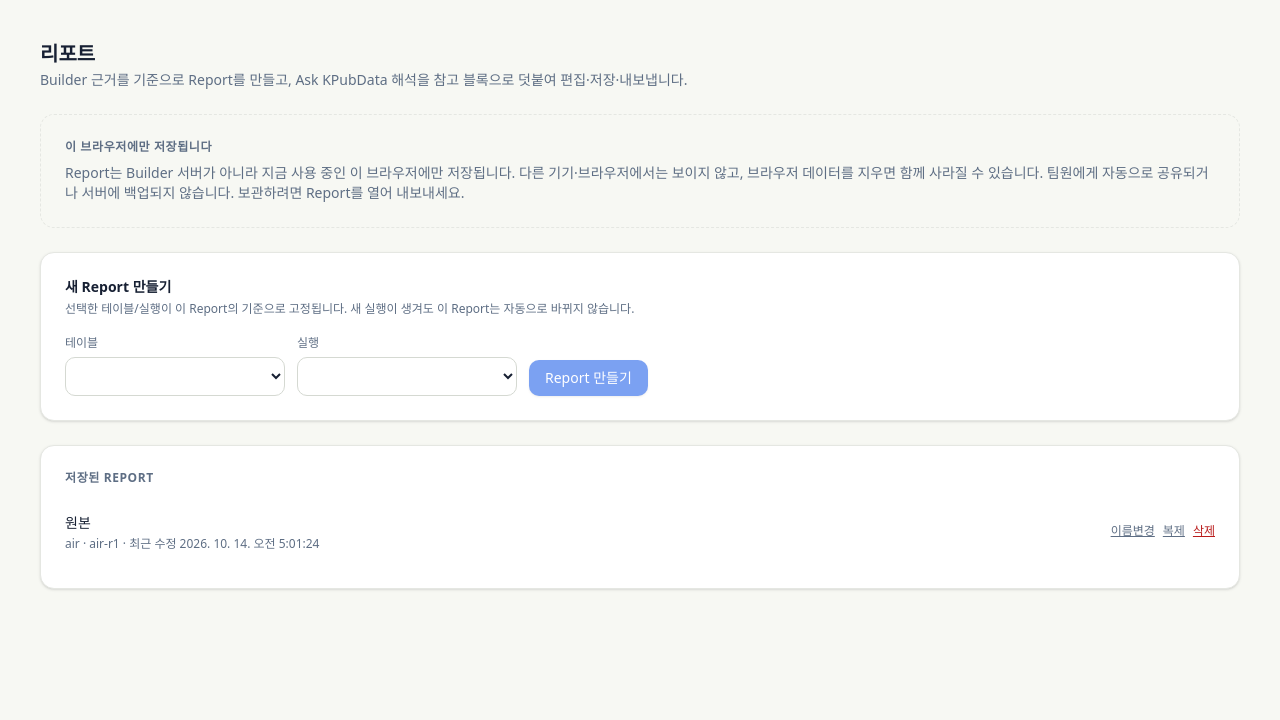
Test: ReportsPage saved-report actions › duplicates a report
Click the button "복제" at (1174, 531), box [1163,523,1185,539]
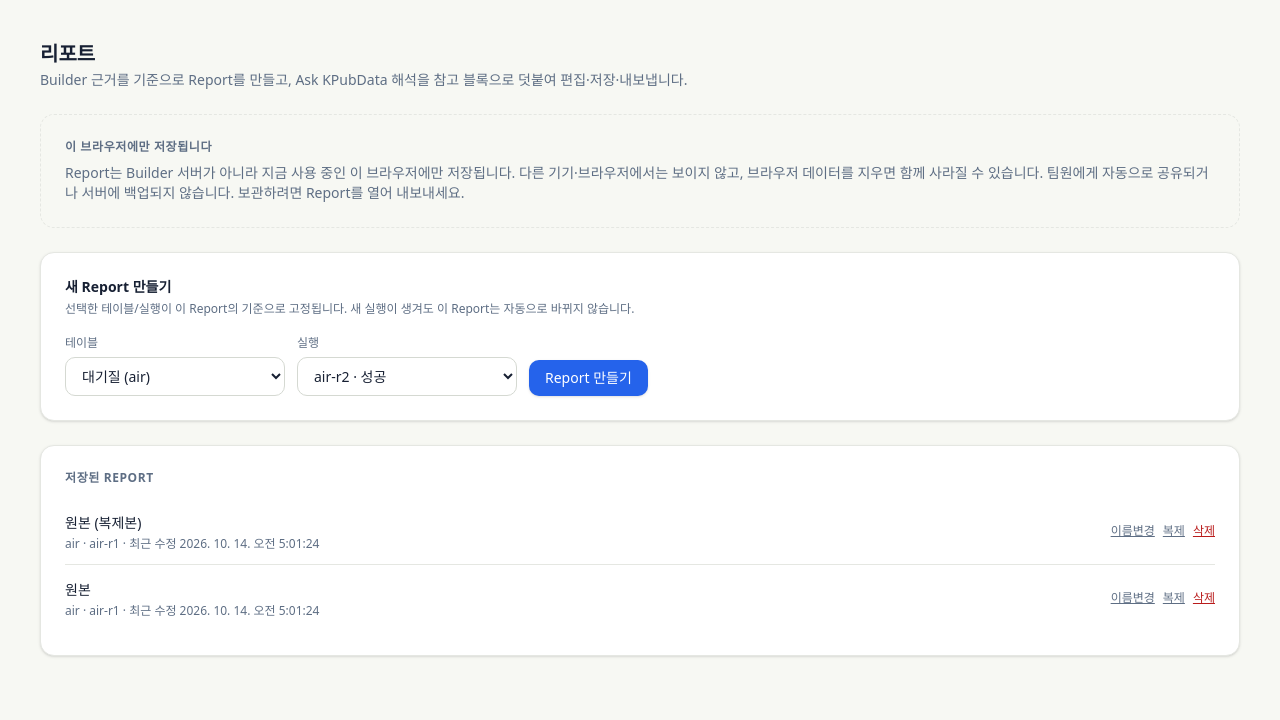
Now the number of list items is 2, box [65,498,1215,565]; [65,580,1215,619]
